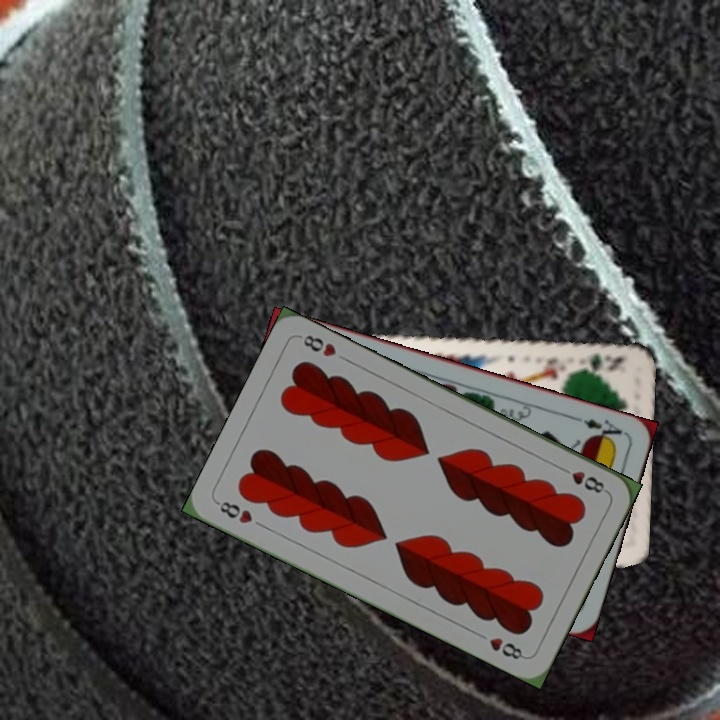EA: (570, 412, 627, 445)
GK: (571, 349, 626, 373)
H8: (554, 462, 609, 496), (213, 497, 255, 526)
